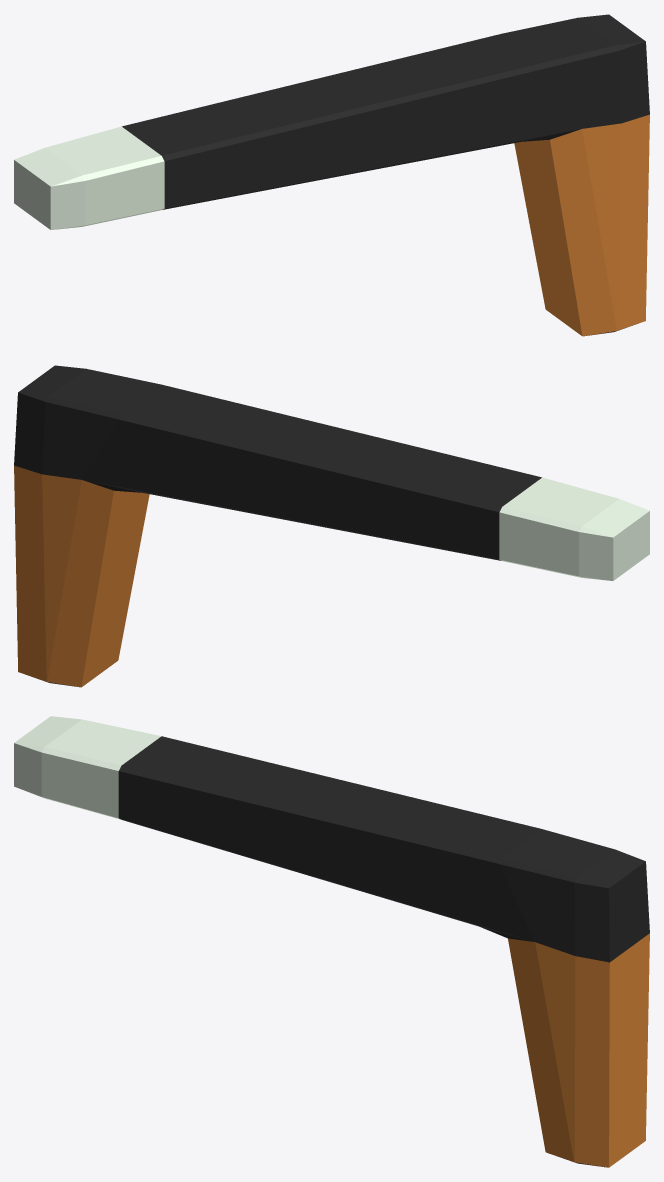
File: Pistol.fbx
3 views of the same model, one above another, from view 1: azimuth 30°, elevation 25°; view 2: azimuth 150°, elevation 25°; view 3: azimuth 330°, elevation 25° (orthographic).
Parts seen in each view (by area): view 1: Cube; view 2: Cube; view 3: Cube.
Part boxes in pixels (x1,y1,x2,y2): Cube: (14, 14, 649, 336); Cube: (14, 365, 649, 687); Cube: (14, 716, 649, 1167).
Size of the model in its own units: 55.38 by 25.54 by 7.55.
